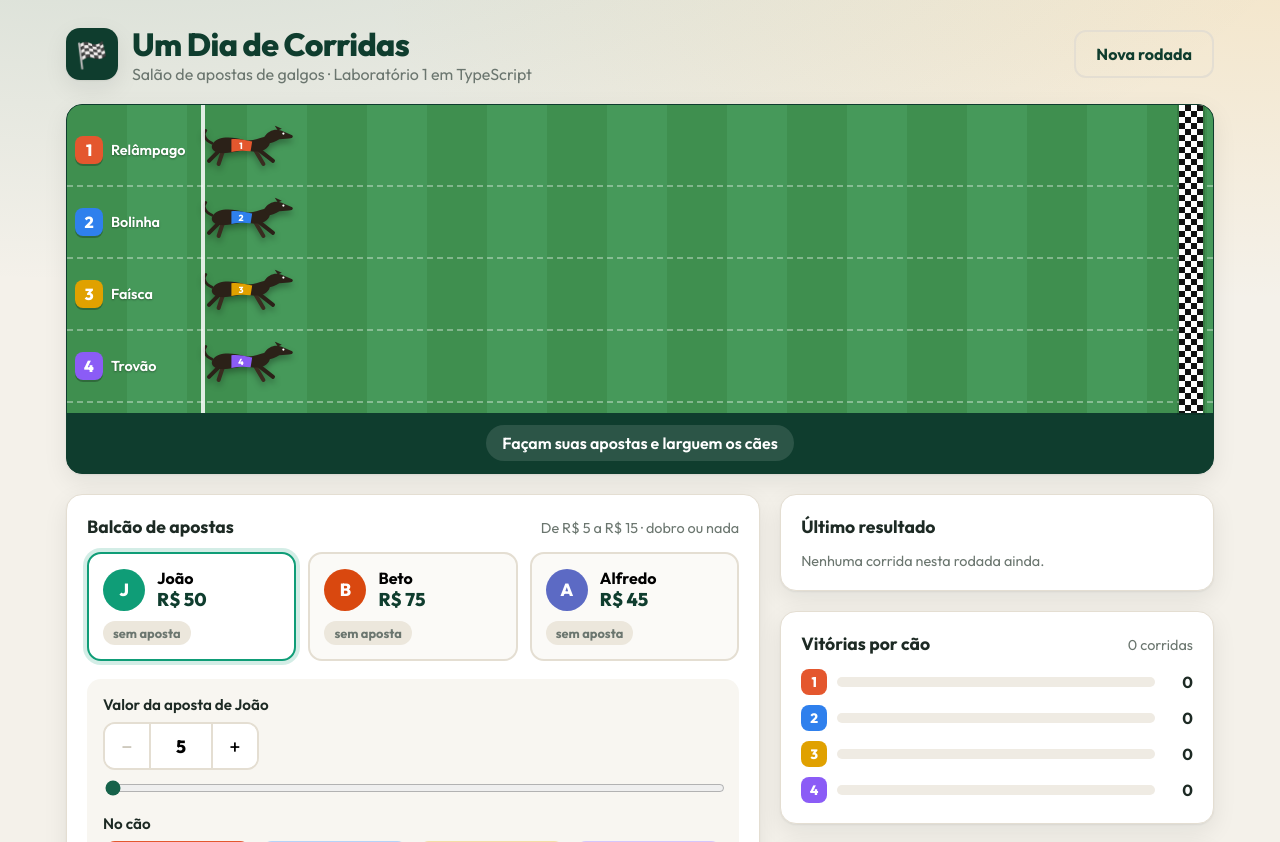
corrida › a corrida salva aparece no histórico e nas vitórias por cão
Click the radio button labelled "J João R$ 50 sem aposta": (192, 606) 87,552 -> 296,661
(page scrolled)
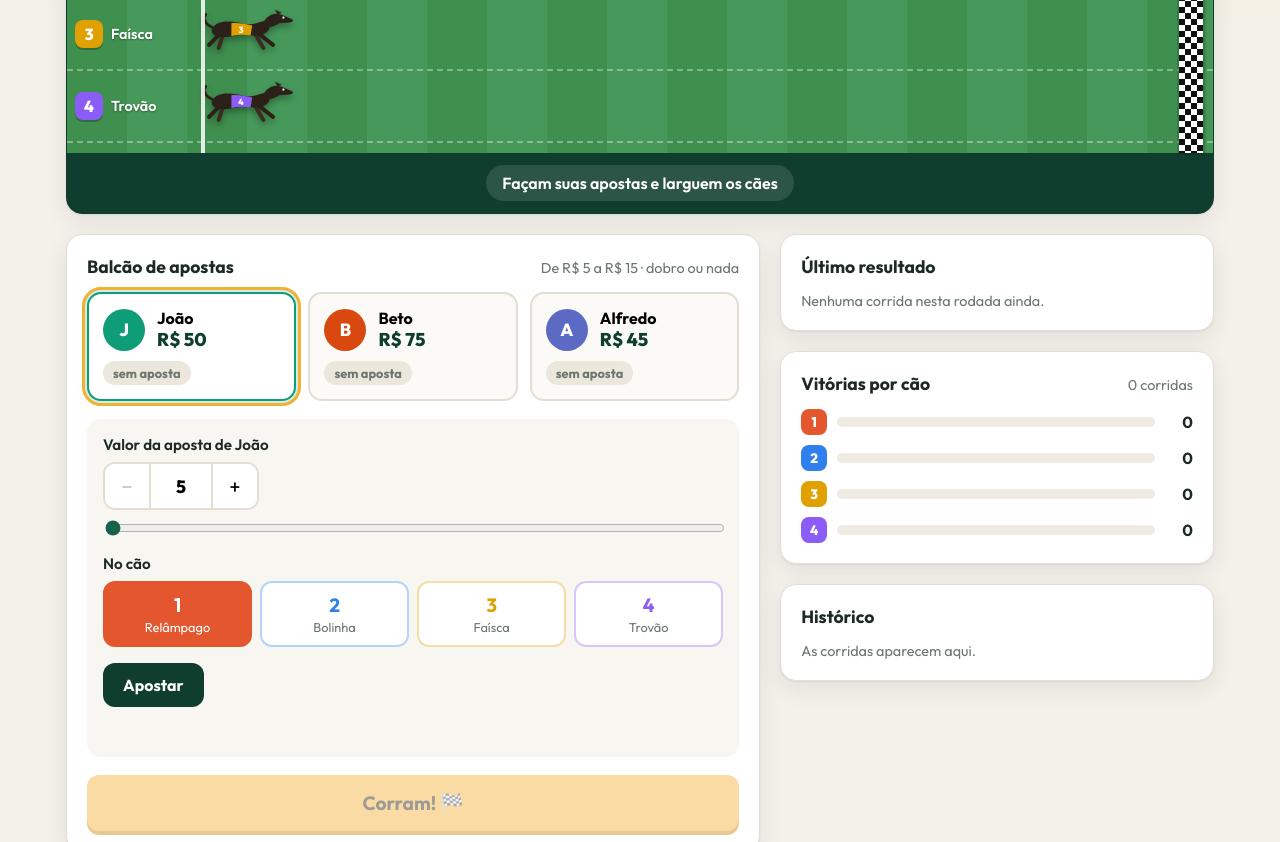
Click the radio button labelled "1 Relâmpago": (178, 614) 103,581 -> 252,647
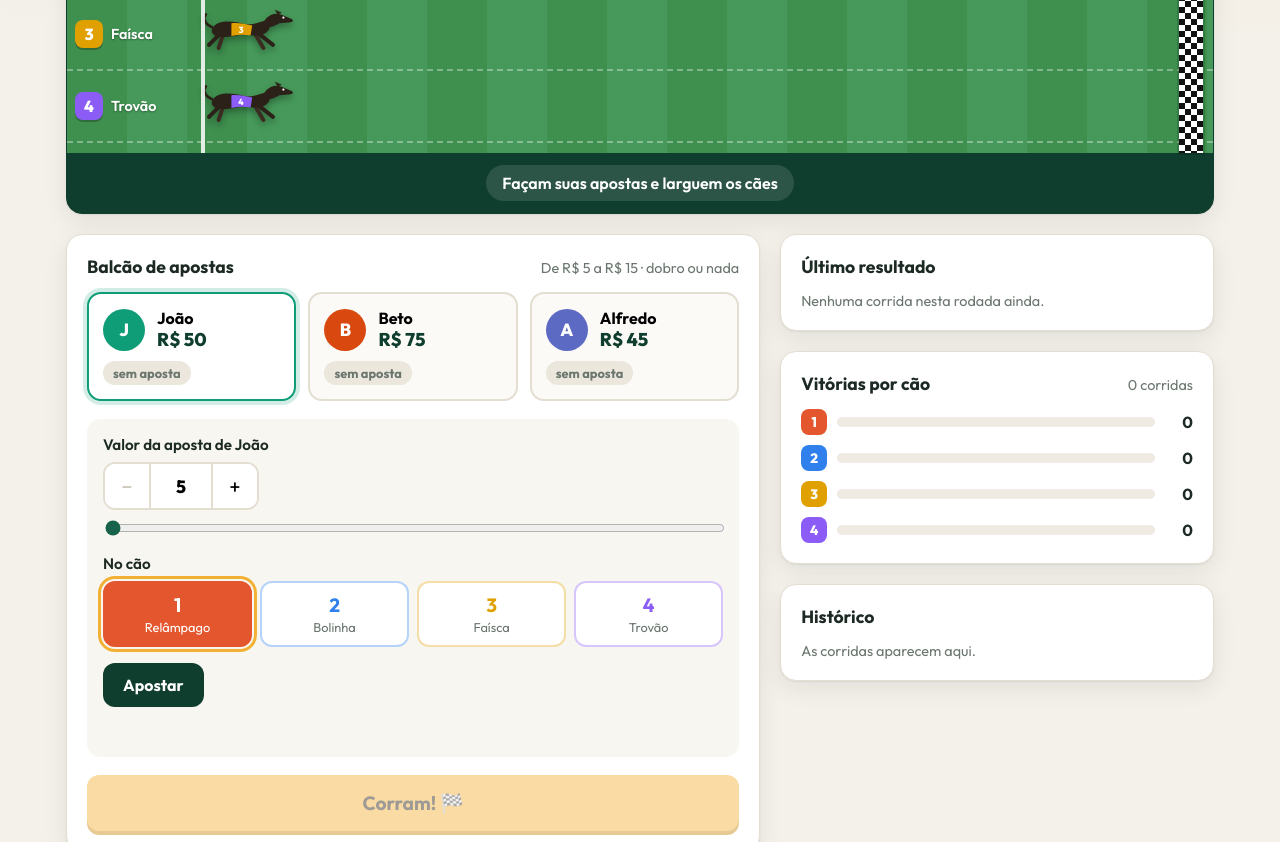
Click the button "Apostar": (153, 685) 103,663 -> 204,707
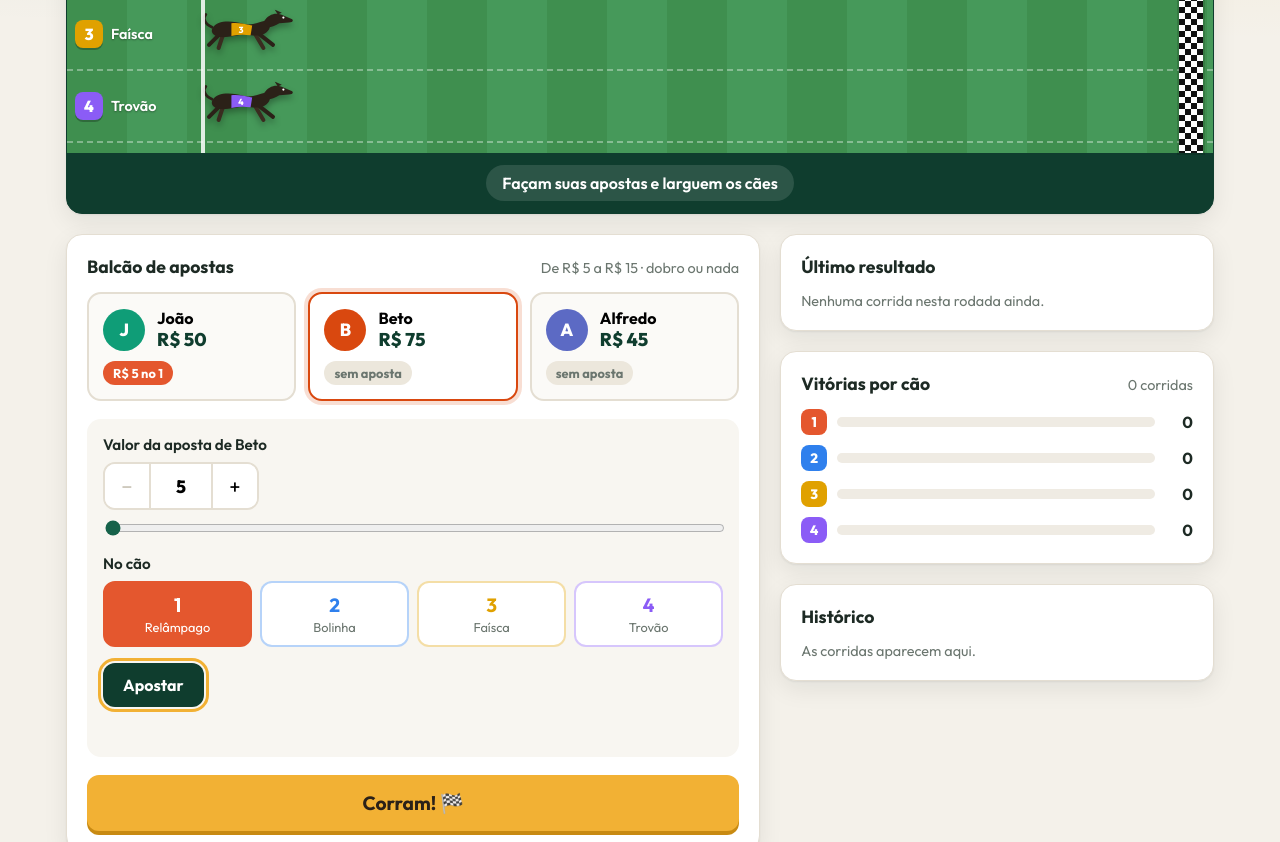
Click the button "Corram! 🏁": (413, 803) 87,775 -> 739,831
Wait 3000 ms
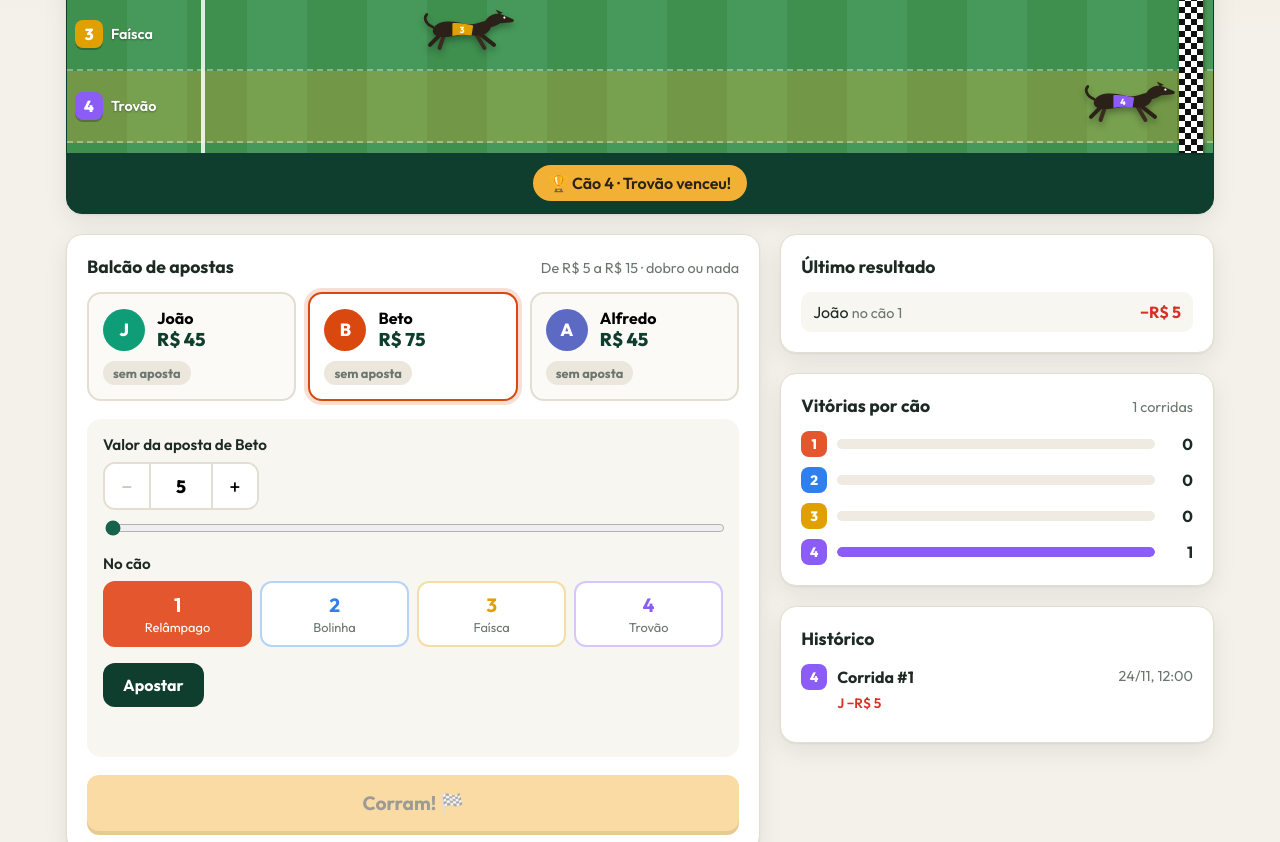
Now the text "Corrida #1" is shown, box 837,667 -> 914,687
Now the text "1 corridas" is shown, box 1132,398 -> 1193,416
